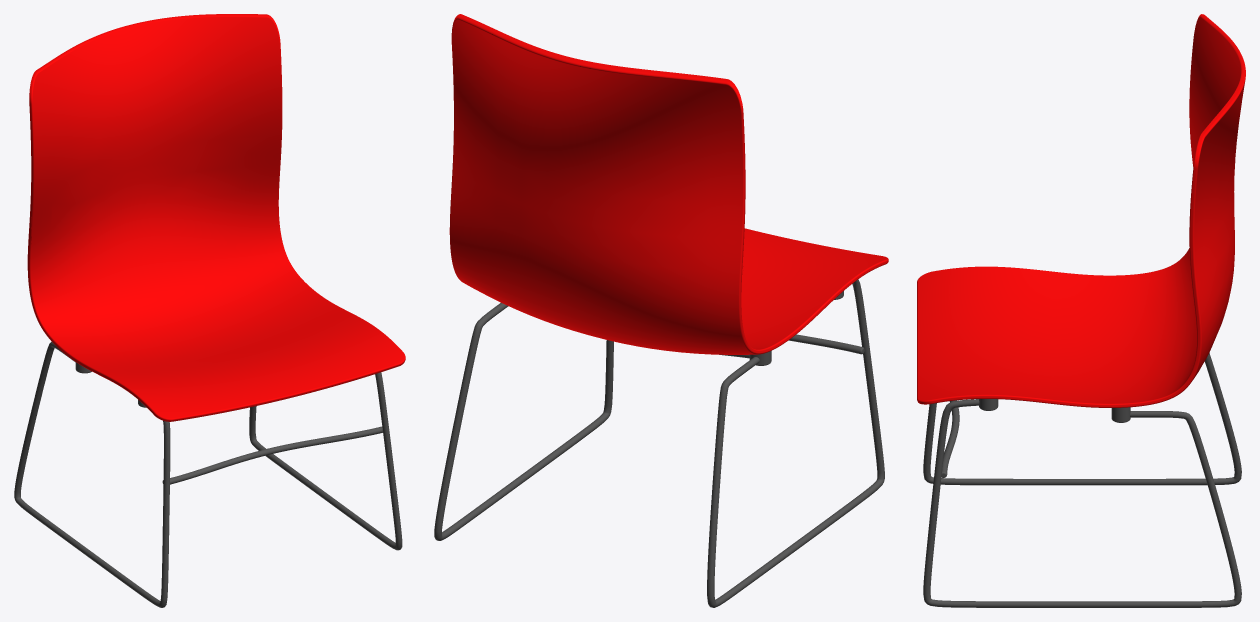
The model's file is kirmiziceyir.fbx.
3 renders of one model, left to right at view 1: azimuth 30°, elevation 25°; view 2: azimuth 150°, elevation 25°; view 3: azimuth 270°, elevation 25°, orthographic. The views are drawn at different scales.
Parts seen in each view (by area): view 1: Chair; view 2: Chair; view 3: Chair.
Part boxes in pixels (left/top/right/bottom): Chair: left=14, top=14, right=405, bottom=607; Chair: left=434, top=14, right=888, bottom=607; Chair: left=917, top=14, right=1245, bottom=607.
Bounding box in the file's own units: 21.38 × 36.66 × 22.9.
